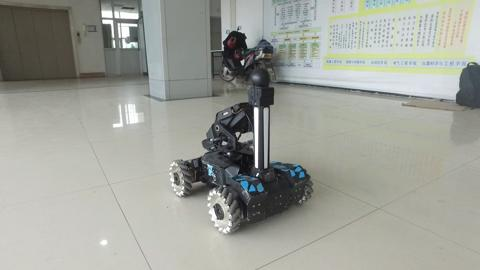bag: (447, 60, 480, 112)
chariot: (165, 69, 328, 234)
